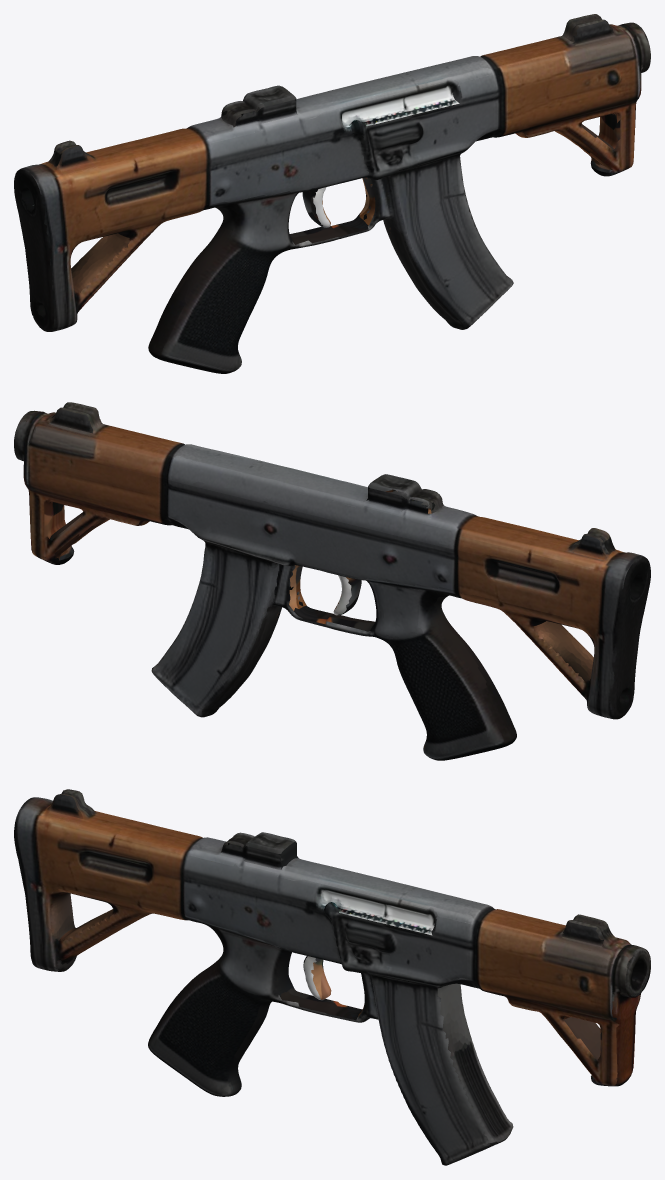
The model's file is catalog-weapon-29.glb.
3 renders of one model, top to bottom at view 1: azimuth 30°, elevation 25°; view 2: azimuth 150°, elevation 25°; view 3: azimuth 330°, elevation 25°, orthographic.
Parts seen in each view (by area): view 1: tmp6ynm6r7r.ply; view 2: tmp6ynm6r7r.ply; view 3: tmp6ynm6r7r.ply.
Boxes of the visible parts, x1,y1,x2,y2 form: tmp6ynm6r7r.ply: [14, 14, 650, 373]; tmp6ynm6r7r.ply: [14, 402, 650, 760]; tmp6ynm6r7r.ply: [14, 789, 650, 1165].
Bounding box in the file's own units: 1.96 × 0.8436 × 0.1852.
Materials: 1 (1 with a texture image).
